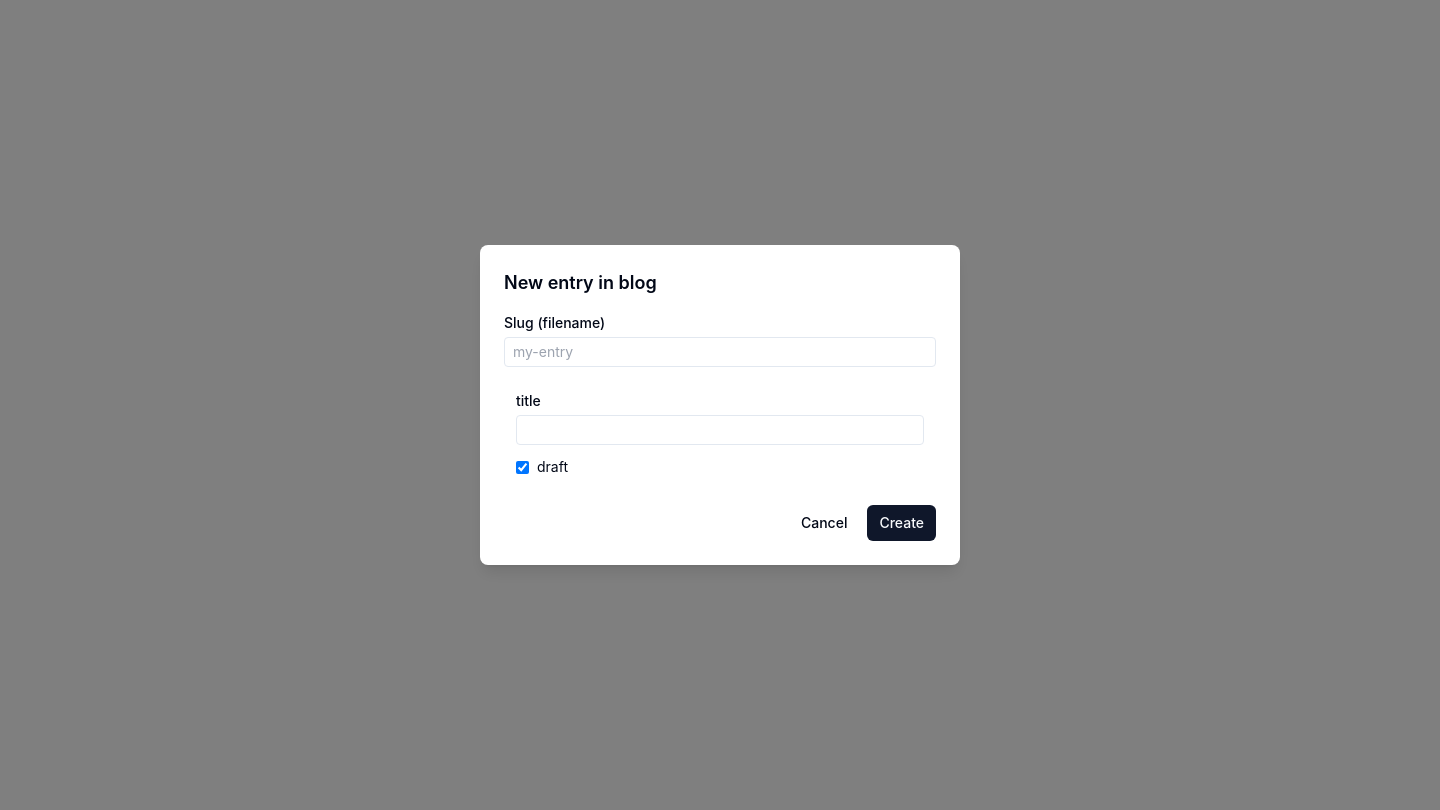
Test: NewEntryDialog › validates slug is required on submit
Click the button "Create": {"x": 902, "y": 523} [867, 505, 936, 541]
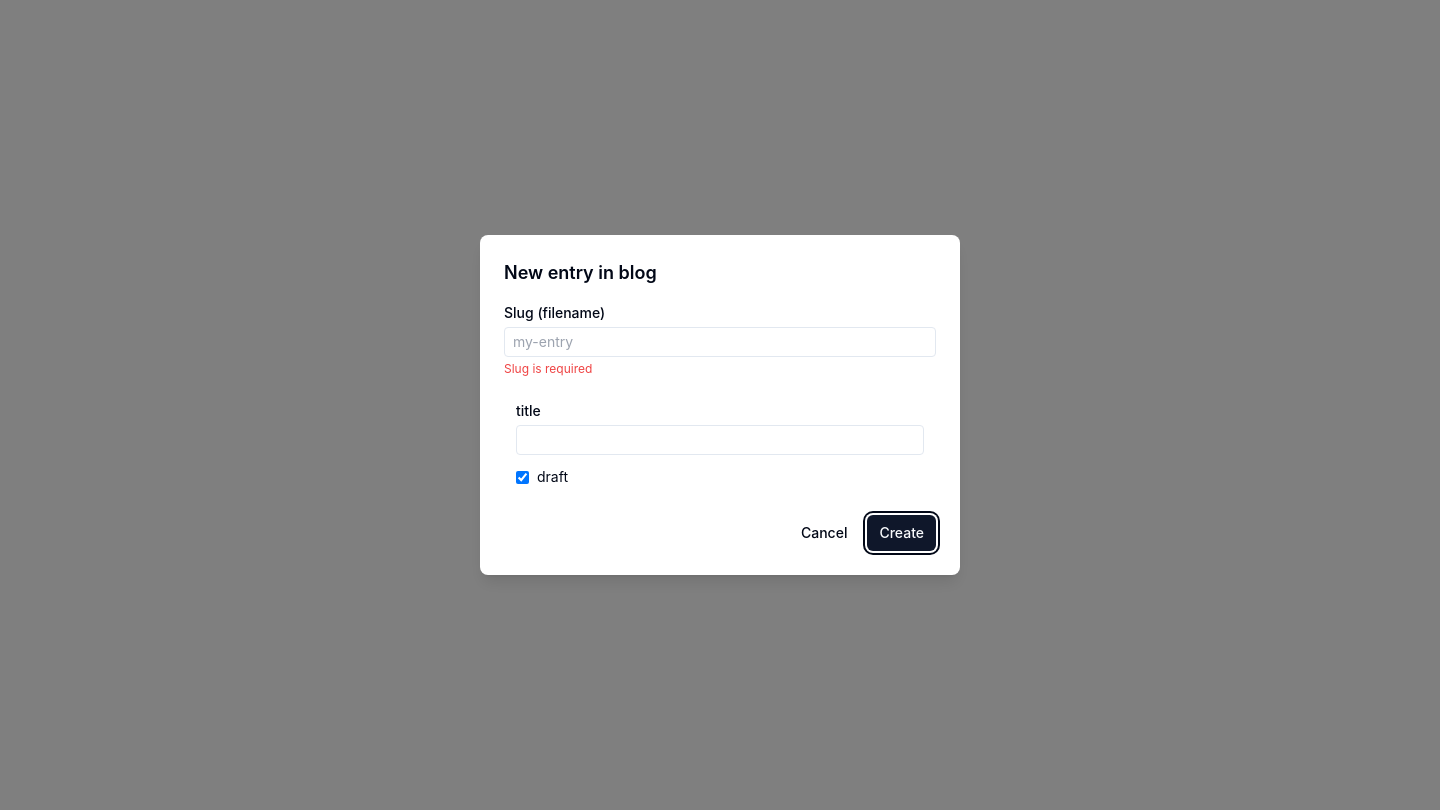
Expected: the text "Slug is required" is shown, [504, 361, 592, 376]
